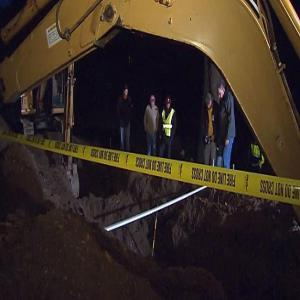none: (217, 81, 226, 99), (205, 93, 213, 111), (123, 84, 129, 98)
red: (165, 96, 172, 110), (150, 95, 156, 109)
